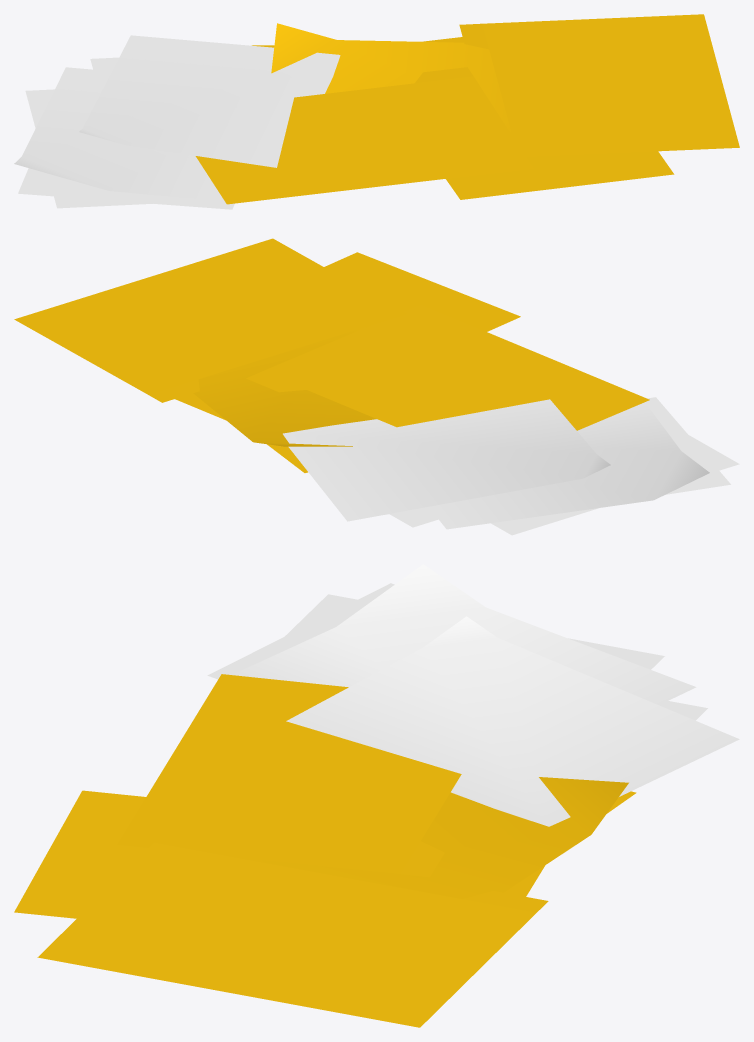
The model's file is papers.fbx.
3 views of the same model, one above another, from view 1: azimuth 30°, elevation 25°; view 2: azimuth 150°, elevation 25°; view 3: azimuth 270°, elevation 25° (orthographic). The views are drawn at different scales.
Visible parts, largest first — view 1: papers2, papers1; view 2: papers2, papers1; view 3: papers2, papers1.
Part boxes in pixels (x1,y1,x2,y2): papers2: (14, 14, 739, 209); papers1: (195, 23, 532, 204); papers2: (14, 238, 739, 535); papers1: (175, 304, 649, 472); papers2: (14, 564, 739, 1027); papers1: (117, 674, 636, 898).
Size of the model in its own units: 74.82 by 2.01 by 51.43.
